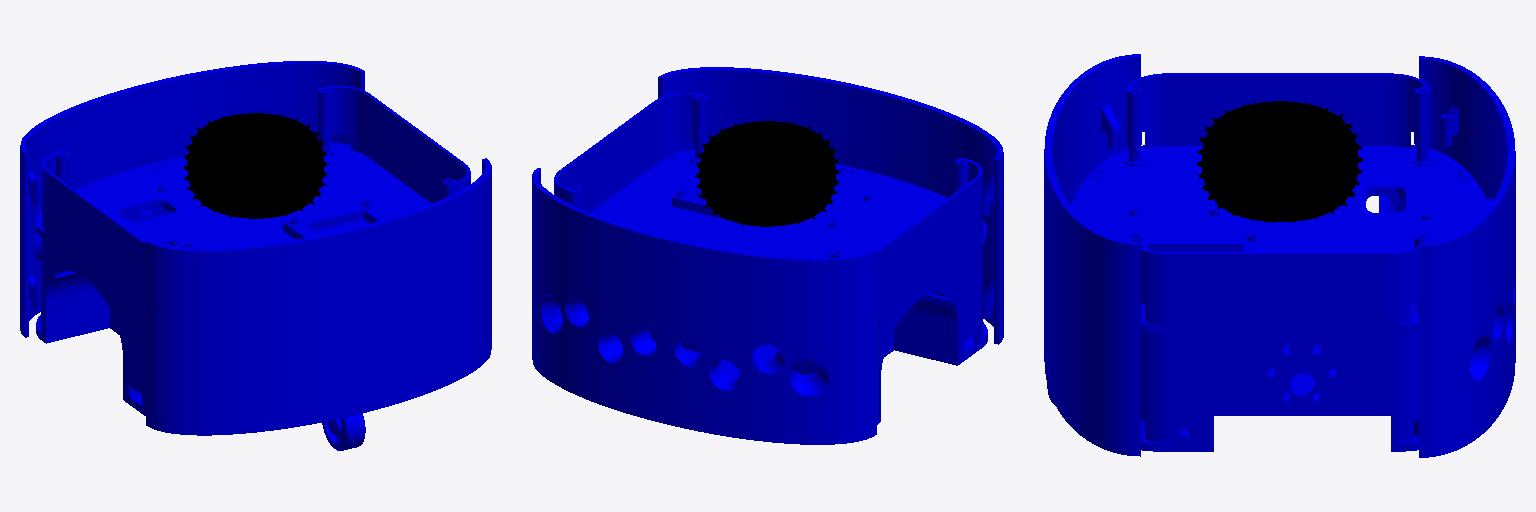
robot.urdf — ClubBotII:
<?xml version="1.0"?>
<!--sdf version='1.4'>
  <model name="a_robot">
  </model>
</sdf-->
<robot name="ClubBotII">

  <material name="red">
    <color rgba="1 0 0 1"/>
  </material>

  <material name="green">
    <color rgba="0 1 0 1"/>
  </material>

  <material name="blue">
    <color rgba="0 0 1 1"/>
  </material>

  <material name="white">
    <color rgba="1 1 1 1"/>
  </material>

  <material name="black">
    <color rgba="0 0 0 1"/>
  </material>

  <link name="base_link">
    <visual>
      <geometry>
        <mesh filename="package://clubbot_description/meshes/Base_link.stl" scale="0.001 0.001 0.001"/>
      </geometry>
      <origin rpy="0 0 3.1415" xyz="0.0 0.0 0.0"/>
      <material name="blue"/>
    </visual>
    <collision>
      <geometry>
        <box size="0.23 0.24 0.12"/>
      </geometry>
    </collision>
    <inertial>
      <mass value="1.71"/>
      <inertia ixx="0.007" ixy="0.0" ixz="0.0" iyy="0.007" iyz="0.0" izz="0.013"/>
    </inertial>
  </link>

  <link name="left_wheel">
    <visual>
      <geometry>
        <mesh filename="package://clubbot_description/meshes/SpikeyWheel.stl" scale="0.001 0.001 0.001"/>
        <!--cylinder length="0.04" radius="0.04"/-->
      </geometry>
      <origin rpy="0 0 0" xyz="0.0 0.0 0.0"/>
      <material name="black"/>
    </visual>
    <collision>
      <geometry>
        <cylinder length="0.04" radius="0.04"/>
      </geometry>
    </collision>
    <inertial>
      <mass value="0.055"/>
      <inertia ixx="0.00003" ixy="0.0" ixz="0.0" iyy="0.00003" iyz="0.0" izz="0.0004"/>
    </inertial>
  </link>

  <joint name="left_wheel_to_base_link" type="continuous">
    <axis xyz="0 0 1"/>
    <parent link="base_link"/>
    <child link="left_wheel"/>
    <origin xyz="0 0.0 0.0"/>
  </joint>

</robot>

--- What the picture shows (computed from the rendered views, not written in the file) ---
Views: 3 orthographic renders of the robot side by side, from view 1: azimuth 30°, elevation 25°; view 2: azimuth 150°, elevation 25°; view 3: azimuth 270°, elevation 25°.
Model ClubBotII with 2 links and 1 joints (1 continuous), rooted at base_link, posed every joint at zero.
Visible links, largest first — view 1: base_link, left_wheel; view 2: base_link, left_wheel; view 3: base_link, left_wheel.
Boxes of the visible links, x1=… form: base_link: x1=20, y1=61, x2=491, y2=450; left_wheel: x1=183, y1=112, x2=328, y2=219; base_link: x1=532, y1=67, x2=1003, y2=444; left_wheel: x1=695, y1=120, x2=840, y2=227; base_link: x1=1044, y1=54, x2=1515, y2=457; left_wheel: x1=1197, y1=101, x2=1362, y2=222.
Size in the robot's own frame: 0.23 by 0.24 by 0.1595 metres.
Meshes: 2 distinct files referenced, 2 mesh visuals loaded (2 binary STL).